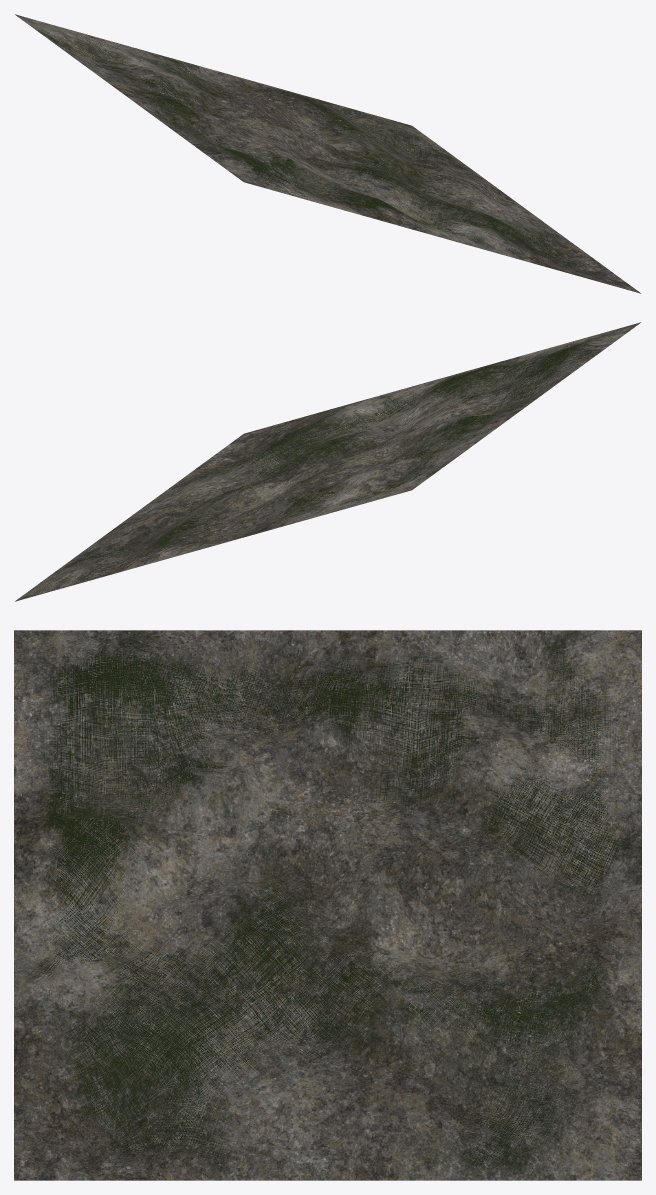
Rendered from underground_floor_stairs.fbx.
3 views of the same model, one above another, from view 1: azimuth 30°, elevation 25°; view 2: azimuth 150°, elevation 25°; view 3: azimuth 270°, elevation 25° (orthographic). The views are drawn at different scales.
Parts seen in each view (by area): view 1: underground_floor_stairs; view 2: underground_floor_stairs; view 3: underground_floor_stairs.
Boxes of the visible parts, bbox=[...] form: underground_floor_stairs: bbox=[15, 14, 640, 293]; underground_floor_stairs: bbox=[15, 322, 640, 601]; underground_floor_stairs: bbox=[14, 630, 641, 1180].
Size of the model in its own units: 330 by 165 by 330.
Materials: 1 (1 with a texture image).
